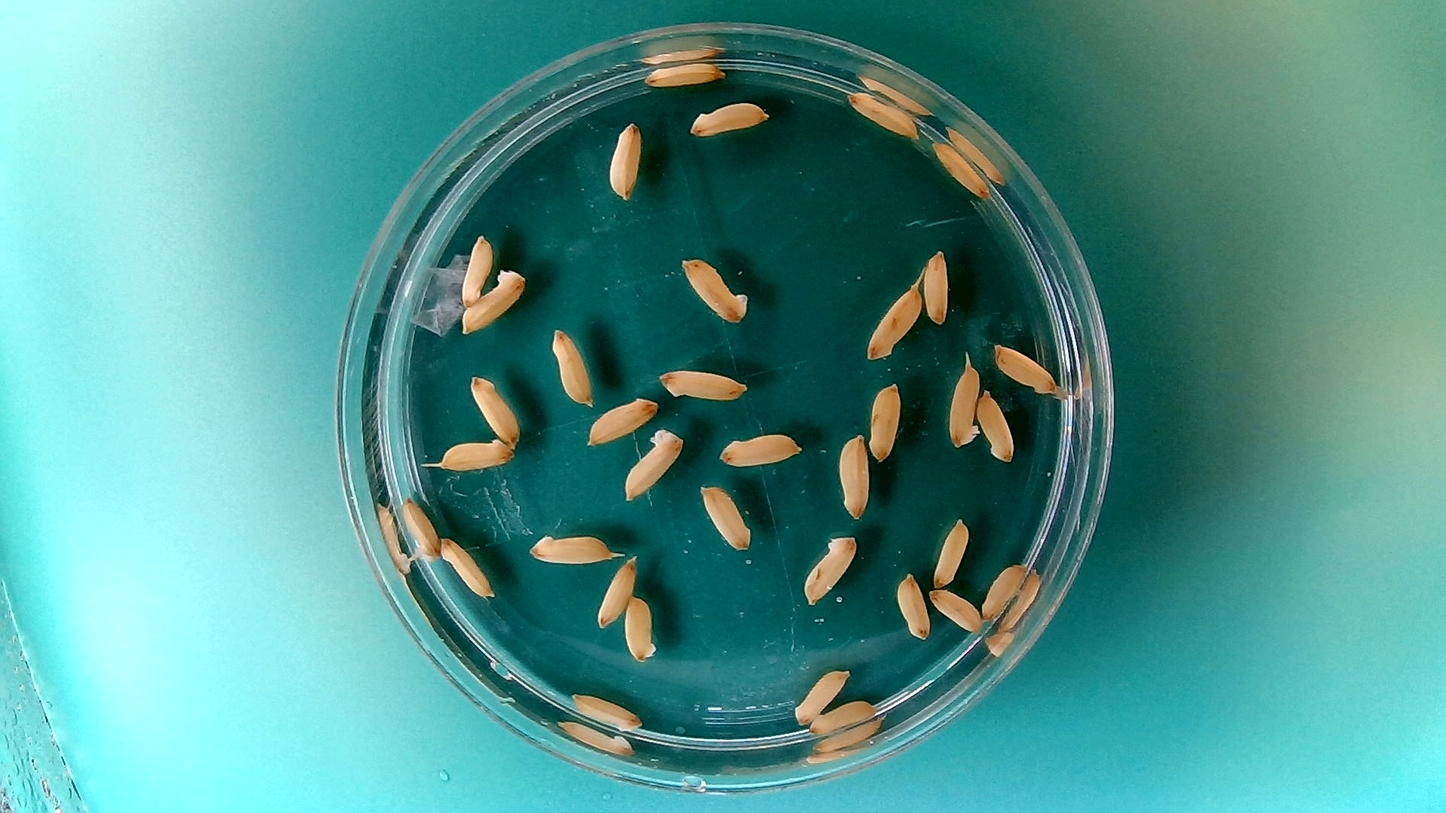no: (677, 252, 752, 326), (620, 424, 686, 502), (864, 279, 925, 361), (460, 265, 529, 337), (801, 530, 858, 606), (583, 393, 660, 448), (466, 371, 521, 447), (844, 87, 922, 140), (548, 323, 595, 409), (927, 138, 992, 199), (697, 481, 752, 551), (438, 534, 495, 600), (715, 428, 804, 470), (991, 340, 1058, 395), (790, 665, 850, 726), (566, 690, 645, 736), (593, 553, 639, 631), (685, 97, 770, 139), (656, 363, 749, 401), (526, 528, 616, 567), (945, 358, 983, 450), (835, 428, 871, 520), (975, 385, 1016, 464), (606, 117, 645, 200), (929, 513, 971, 589), (867, 379, 904, 464), (979, 559, 1028, 623), (438, 434, 516, 473), (807, 696, 880, 735), (893, 568, 932, 641), (458, 231, 494, 307), (926, 586, 984, 632), (642, 58, 726, 89), (624, 590, 659, 664), (920, 245, 950, 326)
yes: (398, 492, 441, 565)
